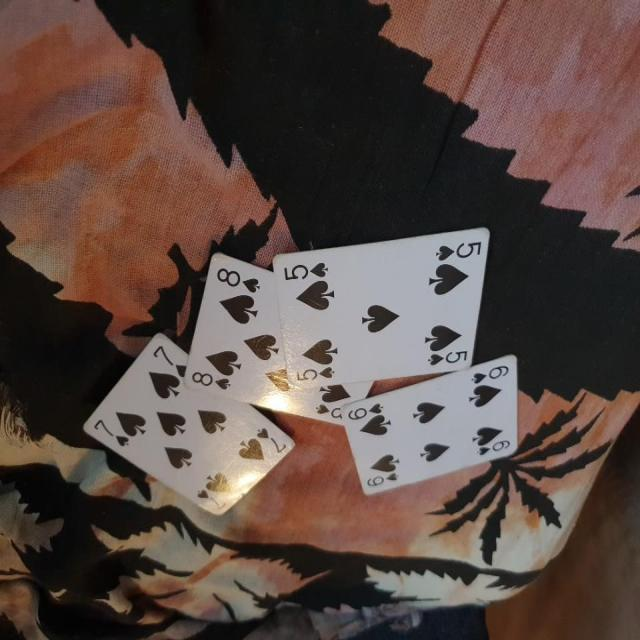5 of spades: (261, 194, 492, 392)
6 of spades: (336, 356, 528, 506)
7 of spades: (72, 328, 298, 528)
8 of spades: (180, 251, 380, 433)
